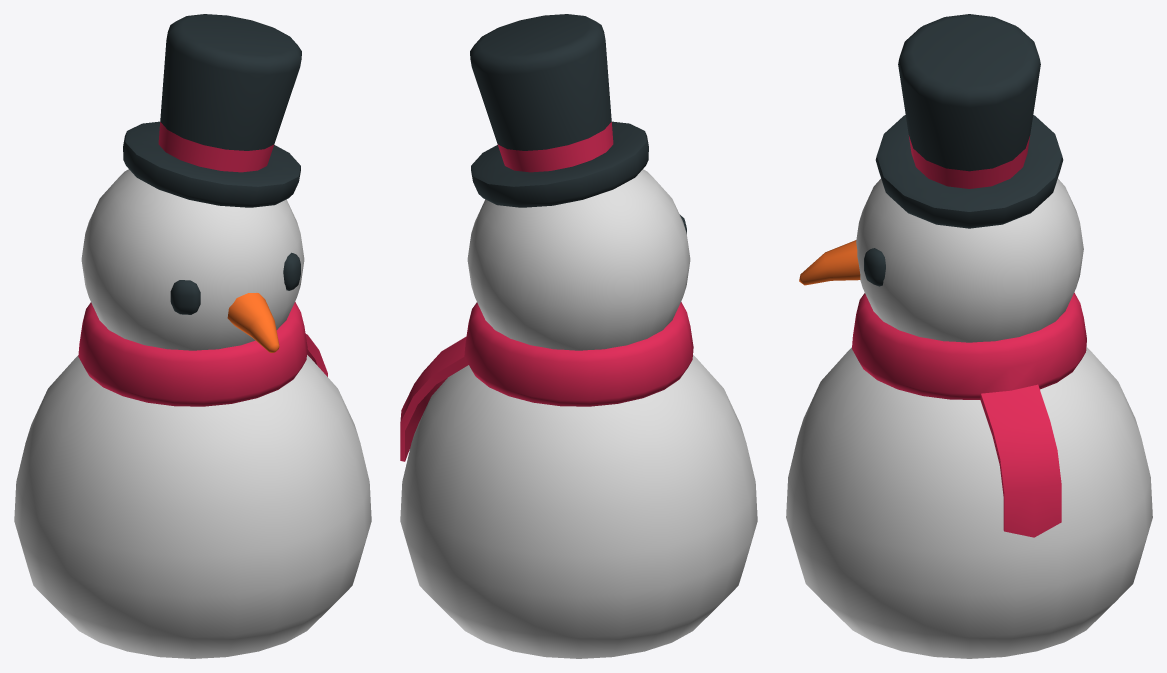
The model's file is snowman.gltf.glb.
3 renders of one model, left to right at view 1: azimuth 30°, elevation 25°; view 2: azimuth 150°, elevation 25°; view 3: azimuth 270°, elevation 25°, orthographic. The views are drawn at different scales.
Visible parts, largest first — view 1: snowman; view 2: snowman; view 3: snowman.
Part boxes in pixels (left/top/right/bottom): snowman: left=14, top=14, right=371, bottom=658; snowman: left=400, top=14, right=757, bottom=658; snowman: left=786, top=14, right=1152, bottom=658.
Bounding box in the file's own units: 1.03 × 1.84 × 1.03.
